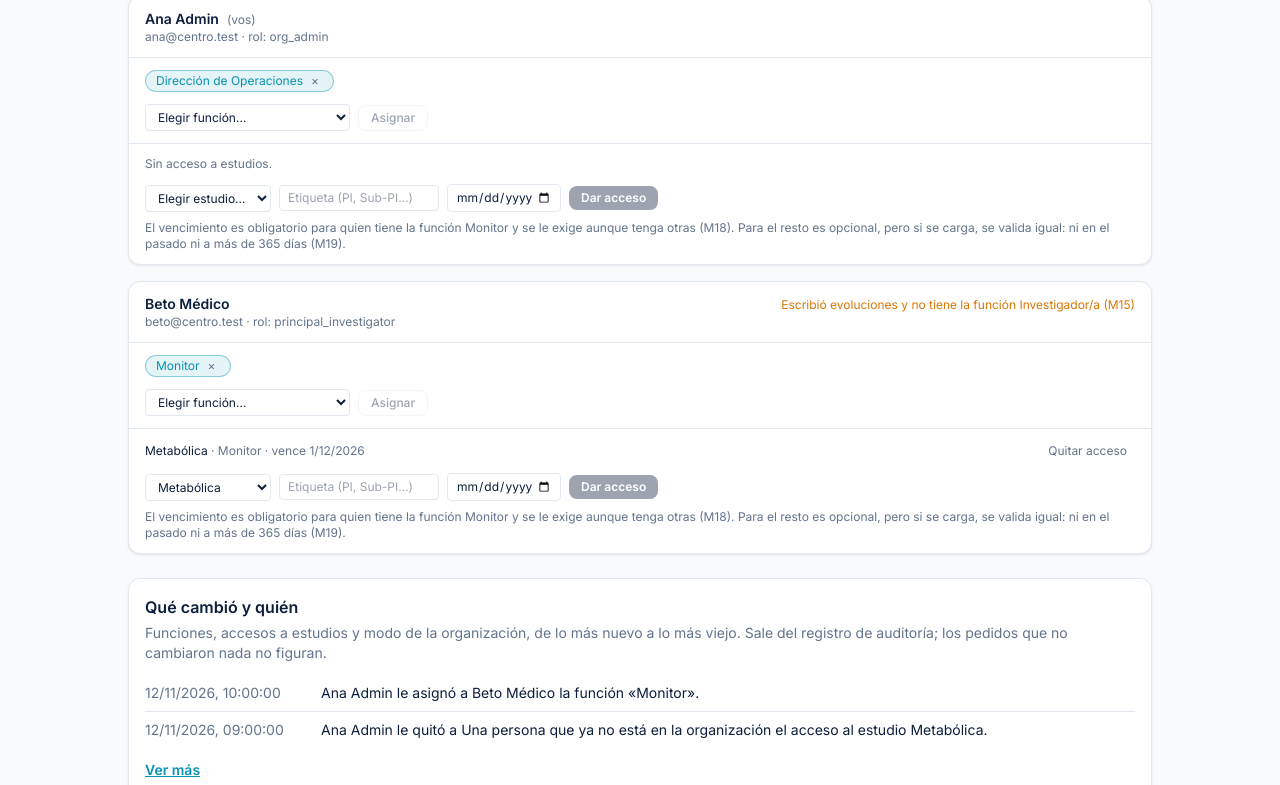
TeamAccessScreen — acciones › monitor sin fecha de vencimiento: no sale el pedido y se enseña la razón (M4/M18)
(page scrolled)
Select "Metabólica" in the dropdown named "Estudio para Beto Médico" at (208, 487), box [145,474,271,500]
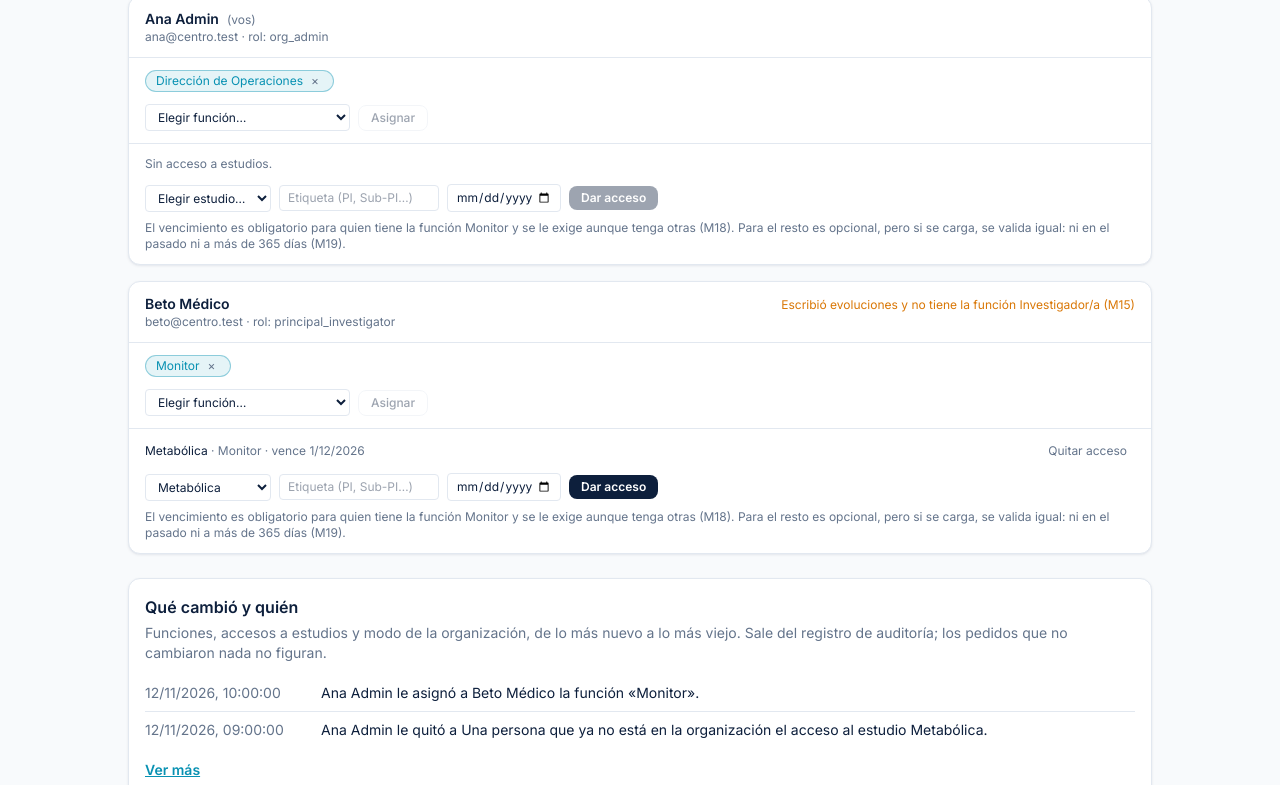
Click the button "Dar acceso" below "· vence" at (614, 487), box [569,475,658,499]
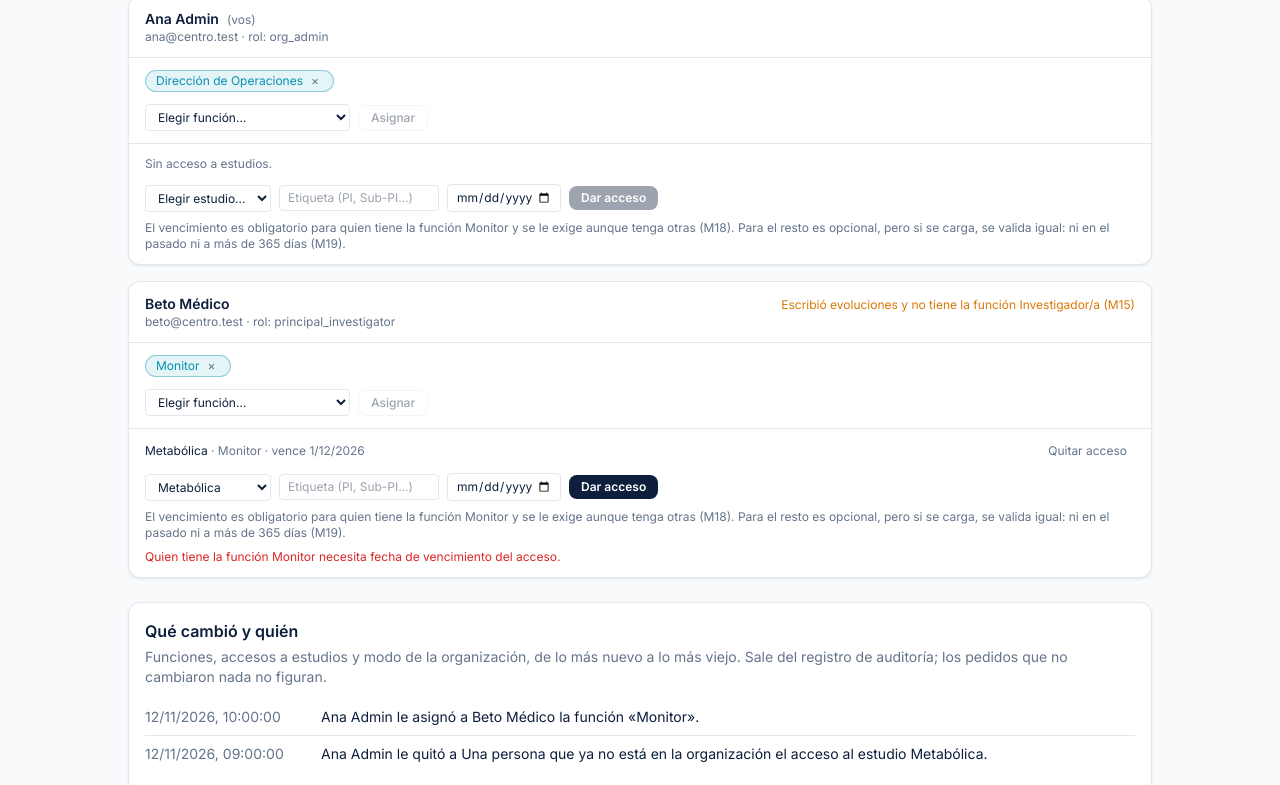
Expected: the text "Quien tiene la función Monitor necesita fecha de vencimiento del acceso." is shown, [145,549,560,564]
